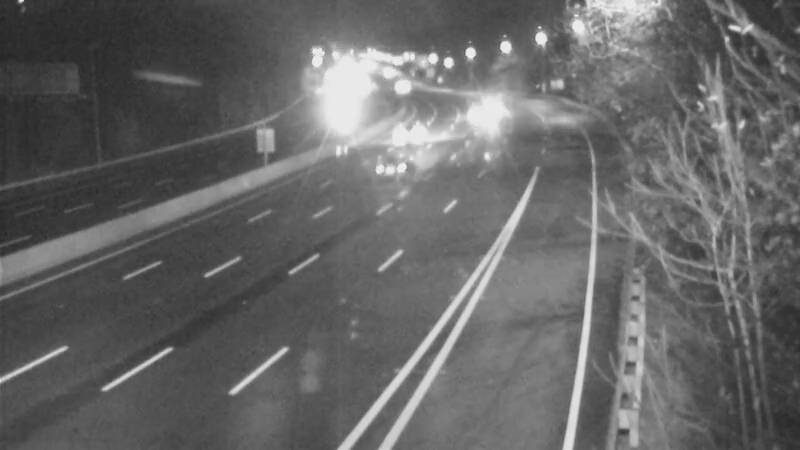vehicle: (356, 125, 436, 205), (376, 62, 426, 112), (463, 77, 513, 127), (443, 92, 493, 142), (384, 107, 434, 157)
